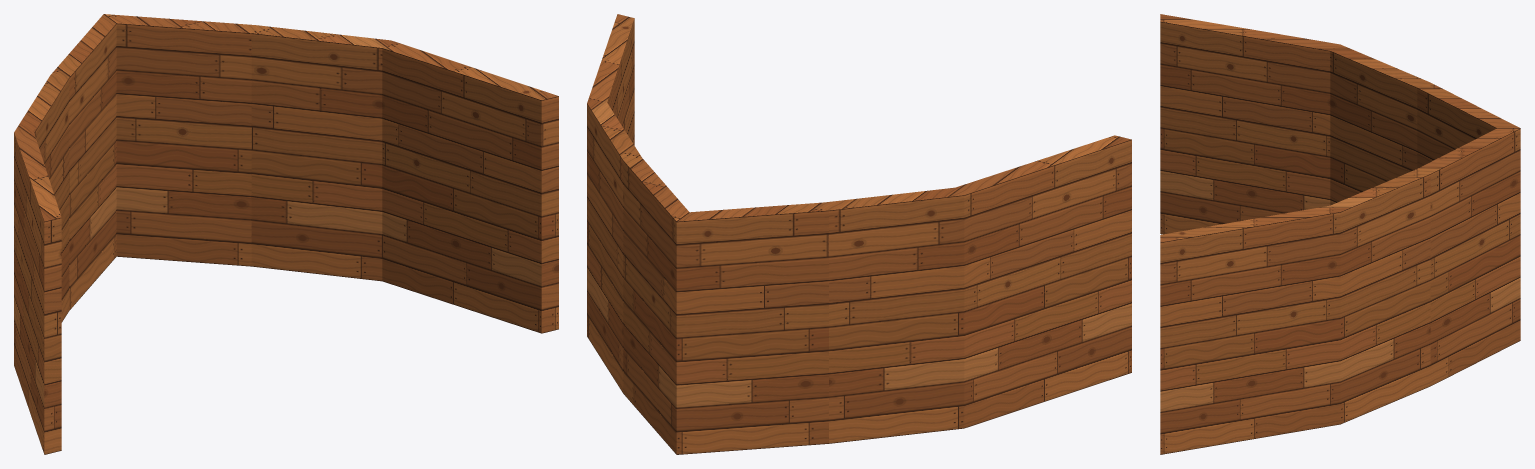
Rendered from MIDDLE_BOW.glb.
3 renders of one model, left to right at view 1: azimuth 30°, elevation 25°; view 2: azimuth 150°, elevation 25°; view 3: azimuth 270°, elevation 25°, orthographic. The views are drawn at different scales.
Parts seen in each view (by area): view 1: MIDDLE_BOW; view 2: MIDDLE_BOW; view 3: MIDDLE_BOW.
Boxes of the visible parts, left/top/right/bottom form: MIDDLE_BOW: left=14, top=14, right=558, bottom=454; MIDDLE_BOW: left=587, top=14, right=1131, bottom=454; MIDDLE_BOW: left=1160, top=14, right=1520, bottom=454.
Bounding box in the file's own units: 6 × 2.6 × 4.
Materials: 1 (1 with a texture image).
